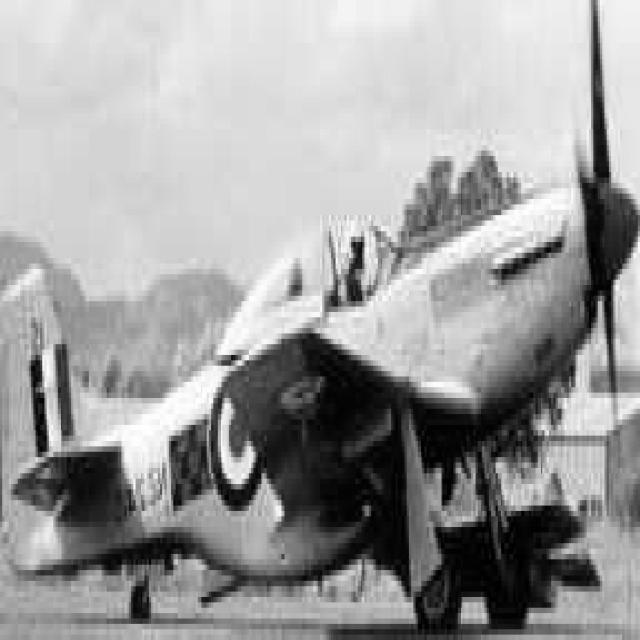Aircraft: (14, 25, 622, 582)
